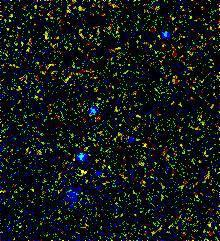star: (67, 157, 97, 187)
